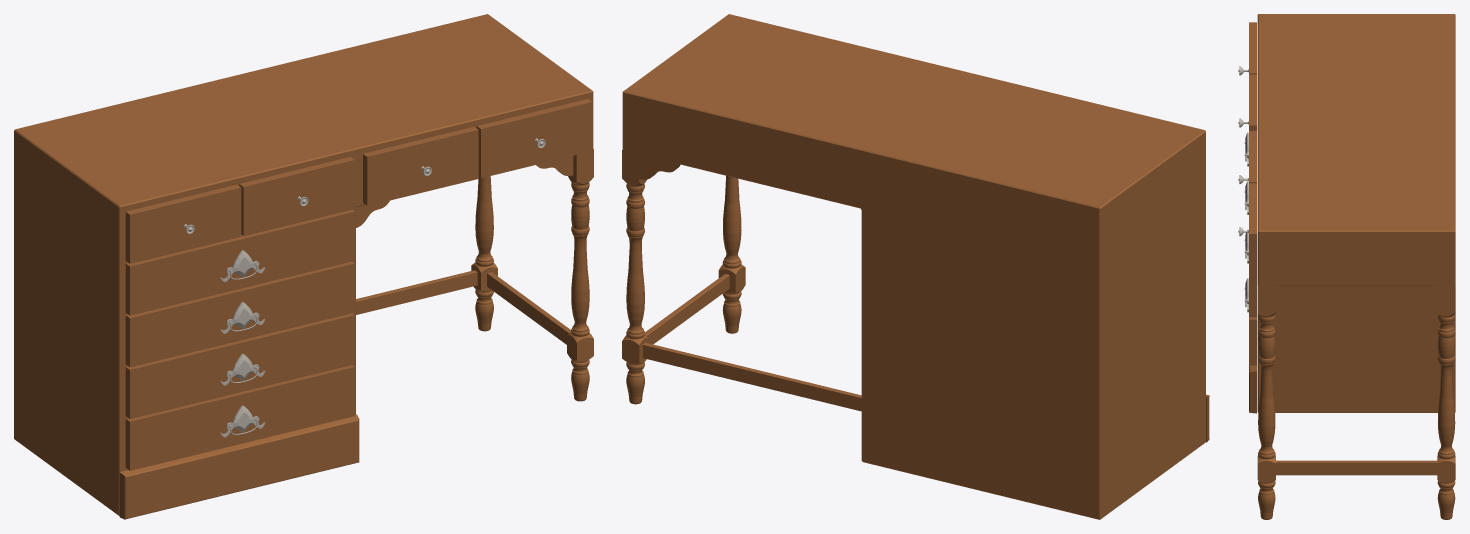
File: Desk by CMHT Oculus.glb
3 views of the same model, side by side, from view 1: azimuth 30°, elevation 25°; view 2: azimuth 150°, elevation 25°; view 3: azimuth 270°, elevation 25° (orthographic). The views are drawn at different scales.
Visible parts, largest first — view 1: Node; view 2: Node; view 3: Node.
Boxes of the visible parts, x1,y1,x2,y2 form: Node: [14, 14, 593, 519]; Node: [622, 14, 1209, 519]; Node: [1238, 14, 1455, 519].
Size of the model in its own units: 48 by 30 by 20.3.
